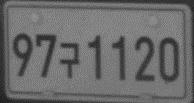0: (157, 36, 181, 84)
1: (86, 33, 103, 82), (111, 33, 127, 82)
2: (134, 35, 156, 82)
7: (35, 33, 57, 79)
9: (12, 32, 34, 77)
구: (59, 41, 81, 79)
